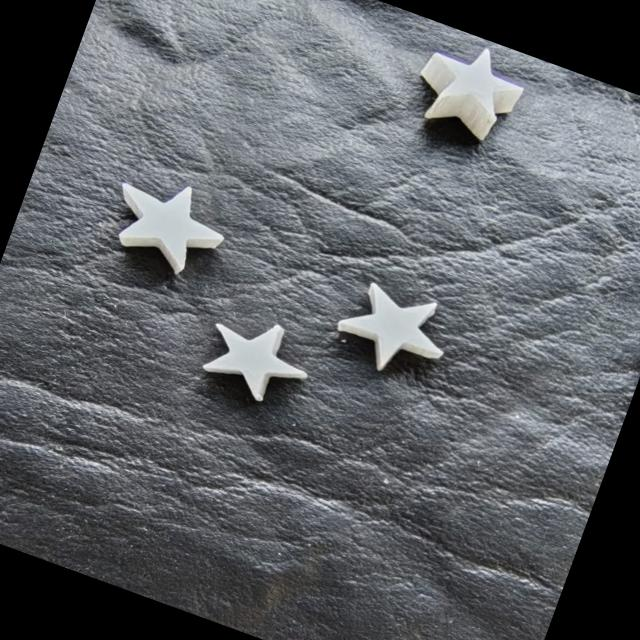estrellas: (117, 182, 221, 263), (343, 284, 444, 364), (202, 322, 306, 398), (438, 48, 521, 121)
